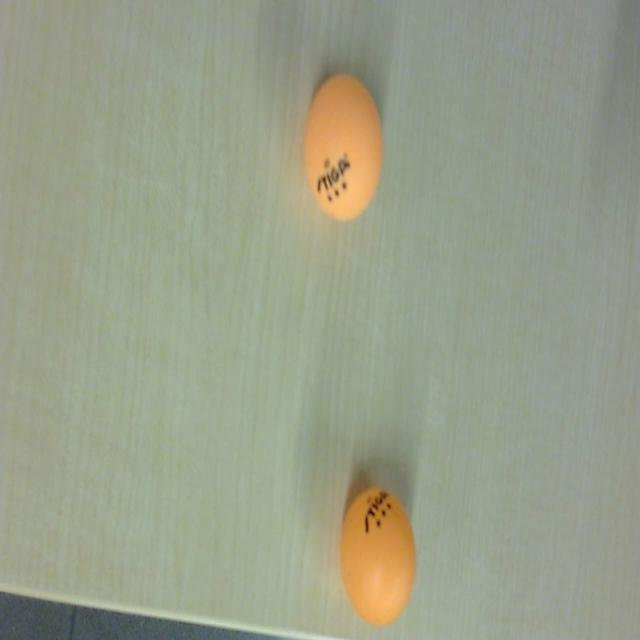ball: (304, 74, 384, 224), (341, 485, 416, 629)
